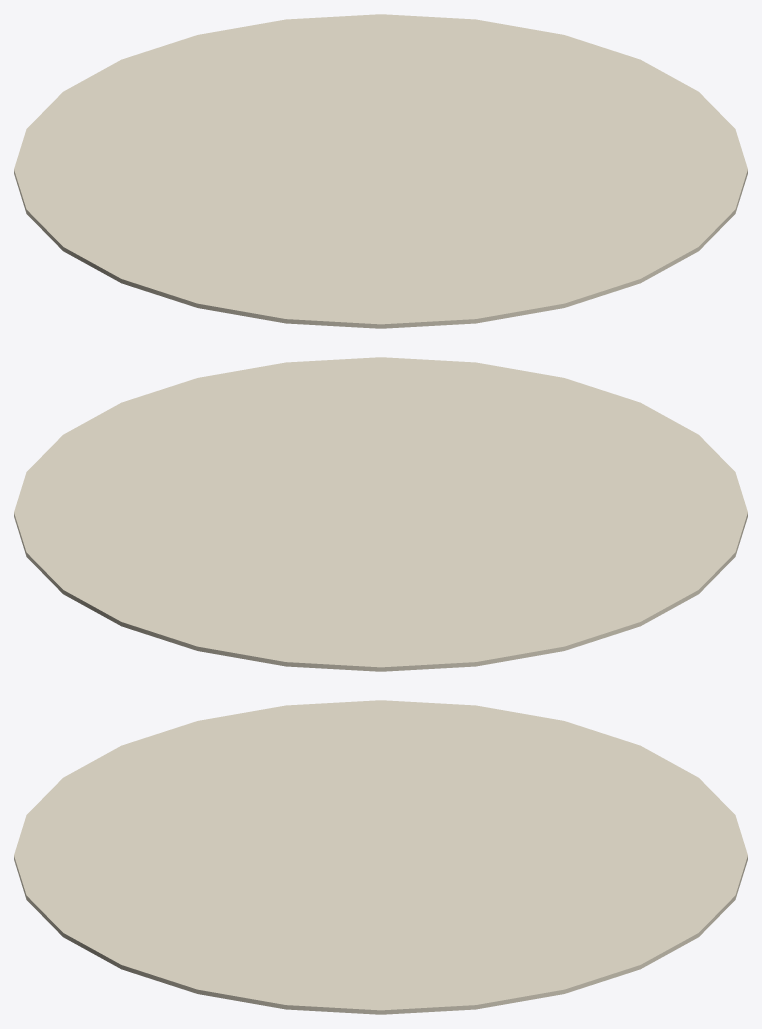
Rendered from paper.glb.
The picture shows the model from 3 angles, top to bottom: view 1: azimuth 30°, elevation 25°; view 2: azimuth 150°, elevation 25°; view 3: azimuth 270°, elevation 25°; orthographic projection.
Visible parts, largest first — view 1: IndependentCoatedBottom; view 2: IndependentCoatedBottom; view 3: IndependentCoatedBottom.
Part boxes in pixels (box(x1,y1,x2,y2)): IndependentCoatedBottom: box(14, 14, 747, 328); IndependentCoatedBottom: box(14, 357, 747, 671); IndependentCoatedBottom: box(14, 700, 747, 1014).
Size of the model in its own units: 0.06 by 0.0004 by 0.06.
